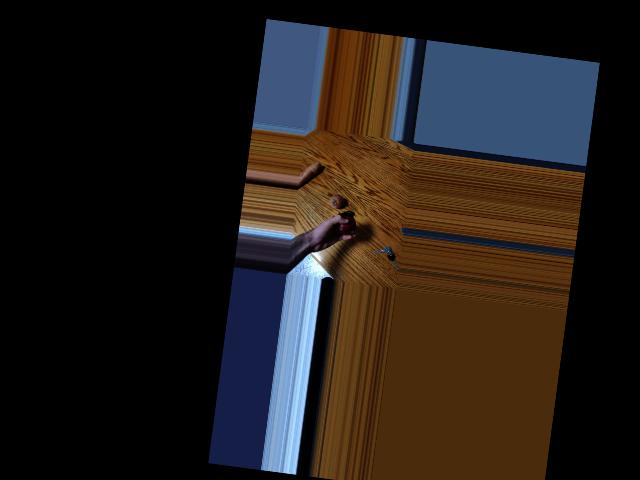onion: (324, 191, 345, 215)
